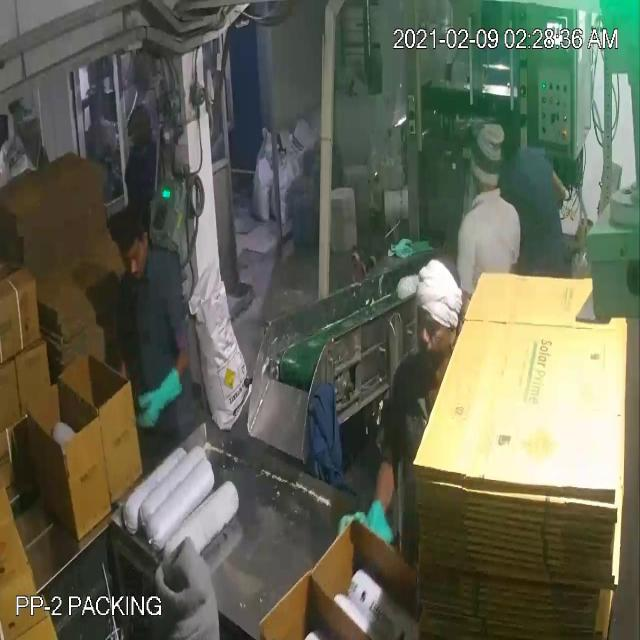gloves: (136, 364, 185, 434)
